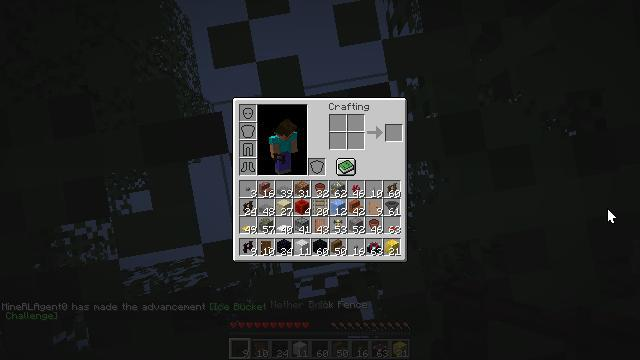cursor: (607, 208, 617, 224)
